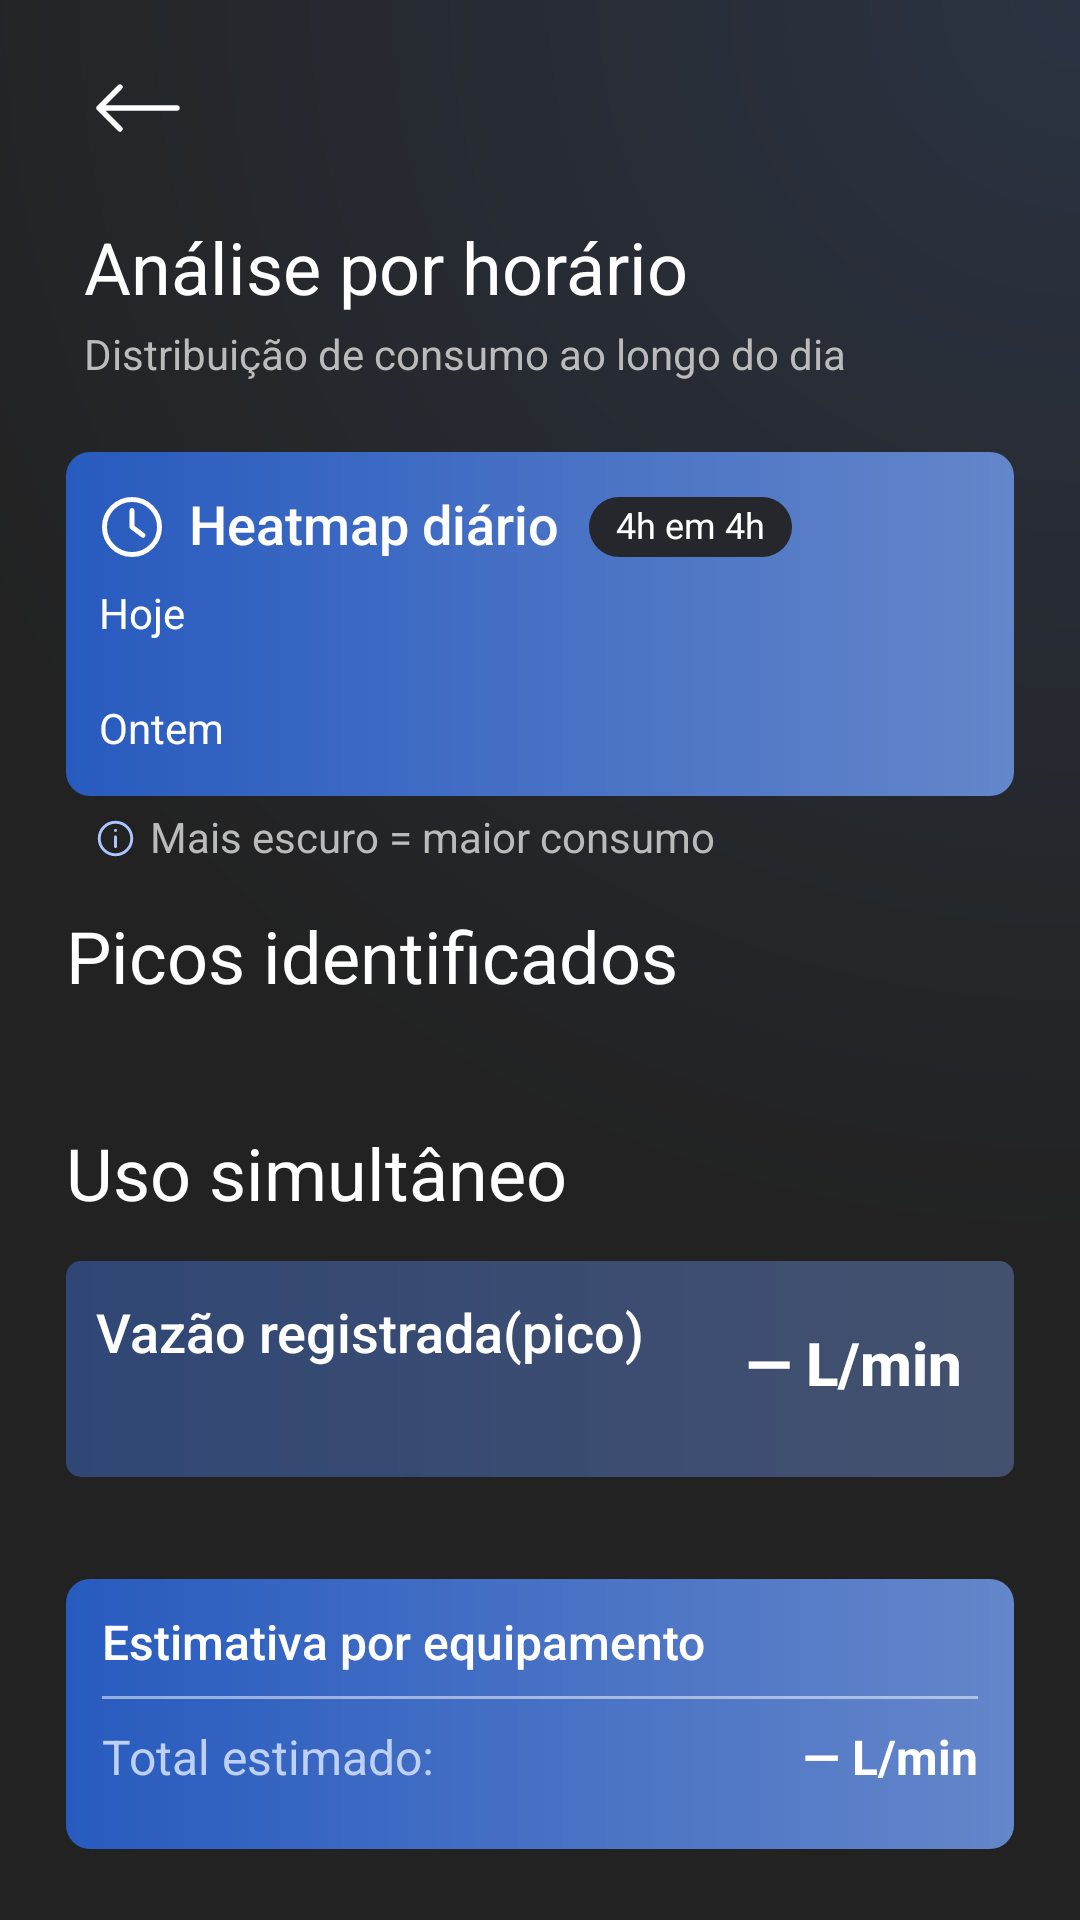

Screen size 1080x1920. Icon name, then its center in pixels as point (x, y):
hourly clock: point (132, 527)
status notice: point (115, 838)
Voltar: point (138, 108)
